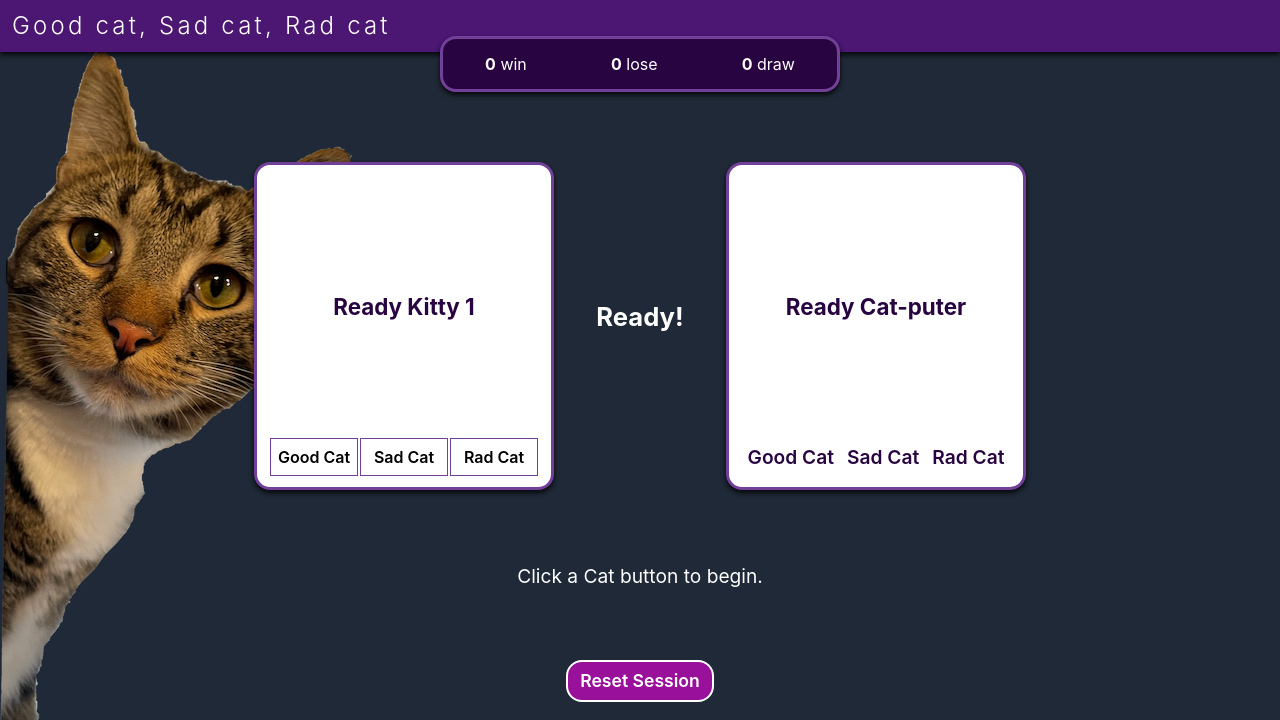
Render App and test button functionality
Expected: the text "Ready Kitty 1" is shown, [333, 293, 475, 320]
Expected: the text "Ready Cat-puter" is shown, [786, 293, 966, 320]
Click the button "Good Cat" at (314, 457), box [270, 438, 358, 476]
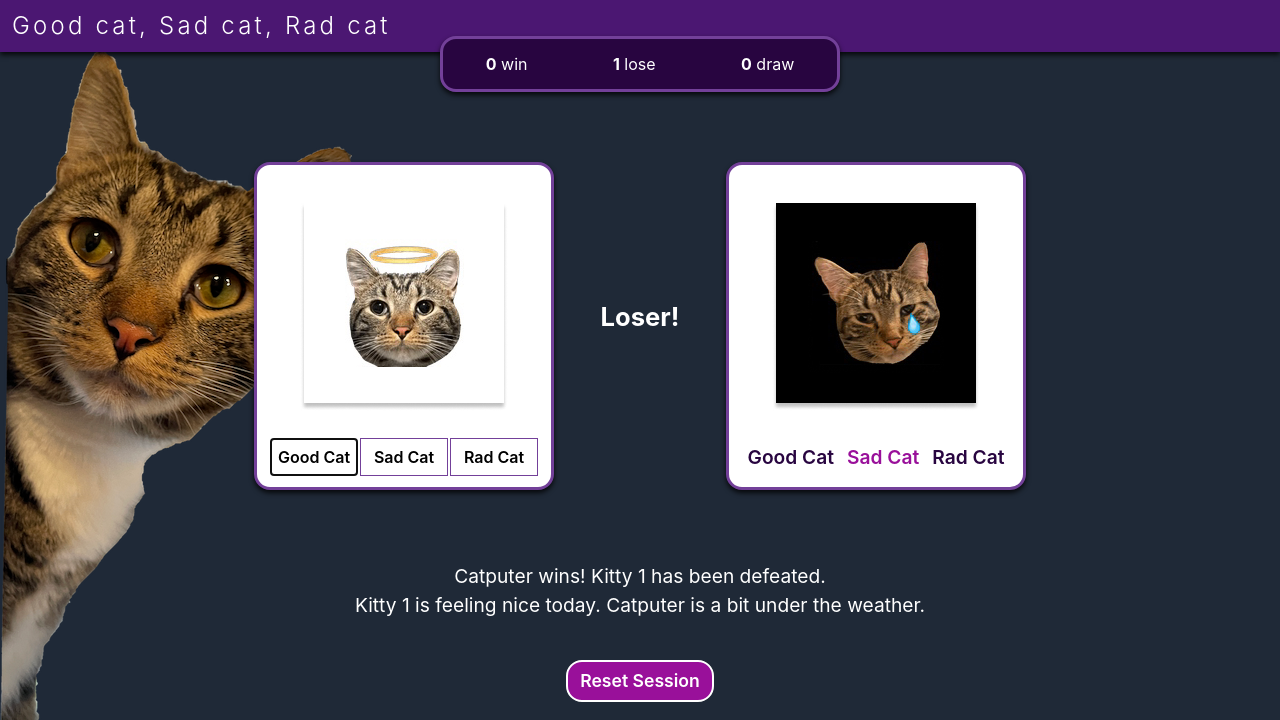
Expected: the text "Ready Kitty 1" is gone
Expected: the text "Ready Cat-puter" is gone
Click the button "Reset Session" at (640, 681), box [566, 660, 714, 702]
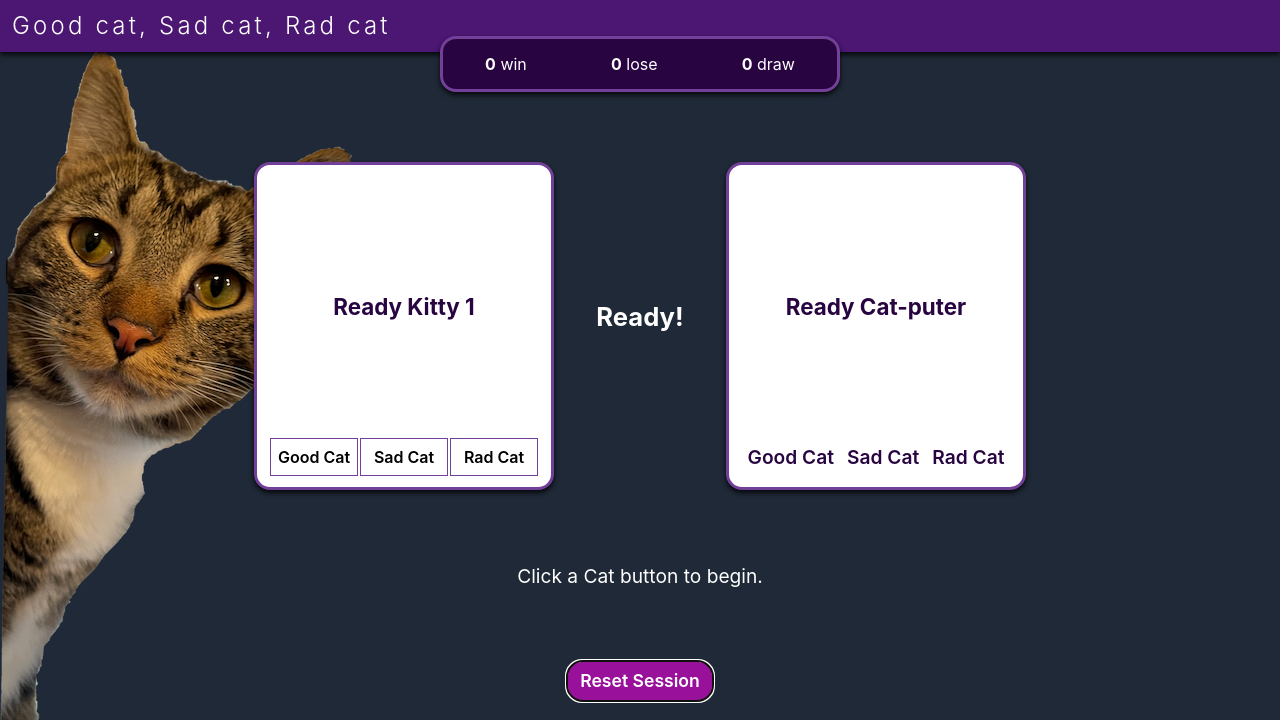
Expected: the text "Ready Kitty 1" is shown, [333, 293, 475, 320]
Expected: the text "Ready Cat-puter" is shown, [786, 293, 966, 320]
